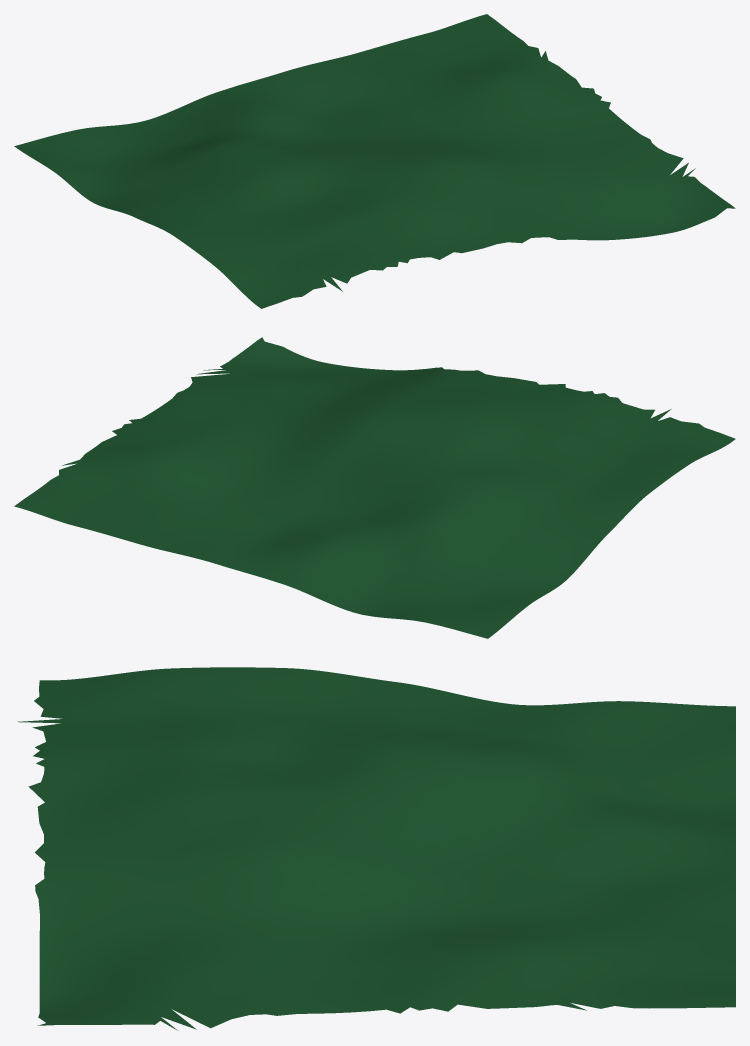
The model's file is payo_land_x3_ym4.glb.
3 renders of one model, top to bottom at view 1: azimuth 30°, elevation 25°; view 2: azimuth 150°, elevation 25°; view 3: azimuth 270°, elevation 25°, orthographic. The views are drawn at different scales.
Parts seen in each view (by area): view 1: payo_land_x3_ym4; view 2: payo_land_x3_ym4; view 3: payo_land_x3_ym4.
Part boxes in pixels (left/top/right/bottom): payo_land_x3_ym4: left=14, top=14, right=735, bottom=308; payo_land_x3_ym4: left=14, top=337, right=735, bottom=638; payo_land_x3_ym4: left=17, top=667, right=735, bottom=1030.
Bounding box in the file's own units: 261 × 22.49 × 240.
